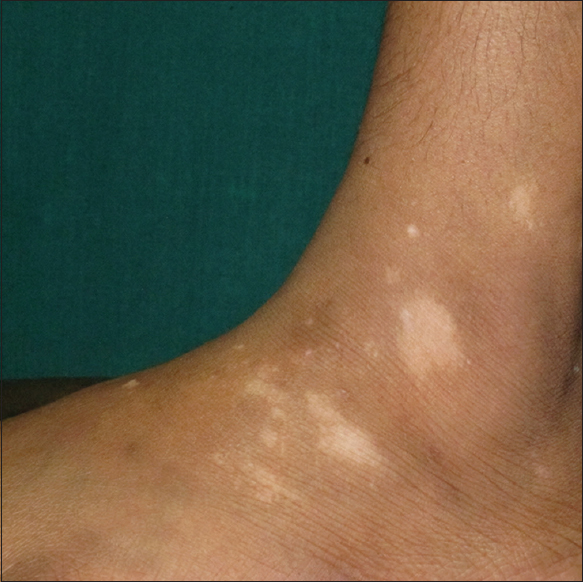vitiligo: (279, 252, 498, 478)
